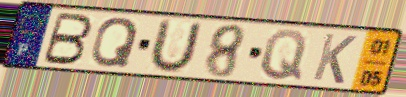8: (201, 23, 248, 79)
B: (39, 11, 95, 67)
K: (310, 31, 359, 86)
Q: (88, 16, 142, 70), (257, 28, 309, 83)
U: (145, 17, 205, 75)
